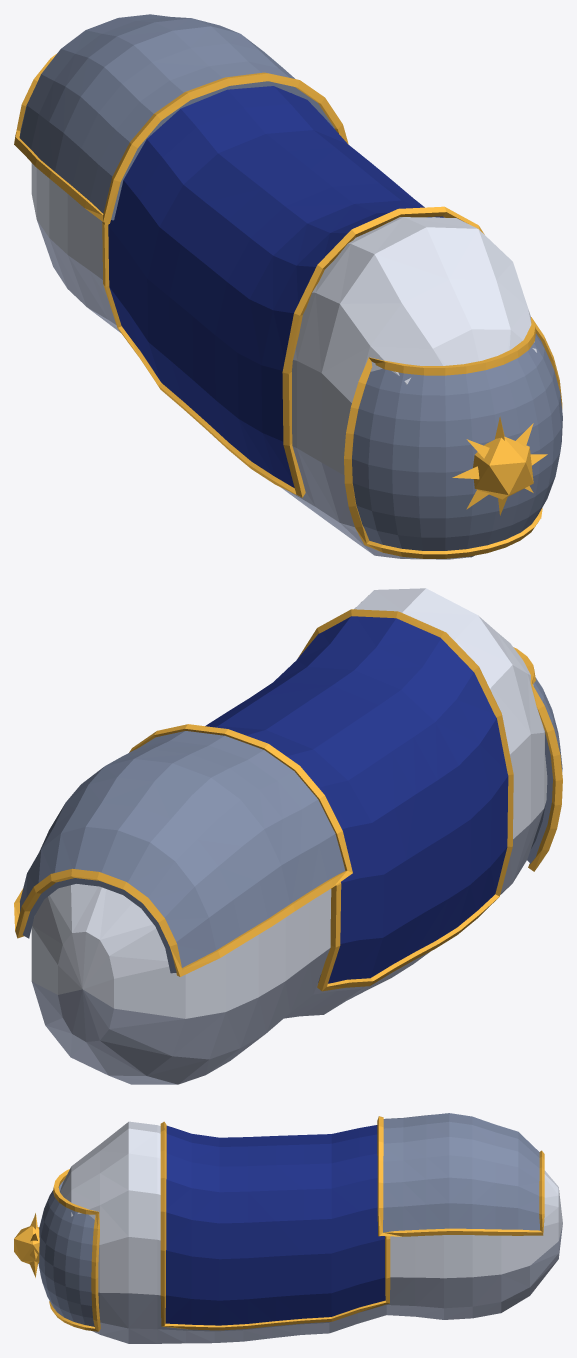
Rendered from BossSteedBody.obj.
3 renders of one model, top to bottom at view 1: azimuth 30°, elevation 25°; view 2: azimuth 150°, elevation 25°; view 3: azimuth 270°, elevation 25°, orthographic. The views are drawn at different scales.
Visible parts, largest first — view 1: BossSteedBody; view 2: BossSteedBody; view 3: BossSteedBody.
Part boxes in pixels (box(x1,y1,x2,y2)): BossSteedBody: box(14, 14, 562, 559); BossSteedBody: box(14, 588, 562, 1084); BossSteedBody: box(14, 1113, 562, 1343).
Size of the model in its own units: 2.61 by 3.4 by 7.85.
